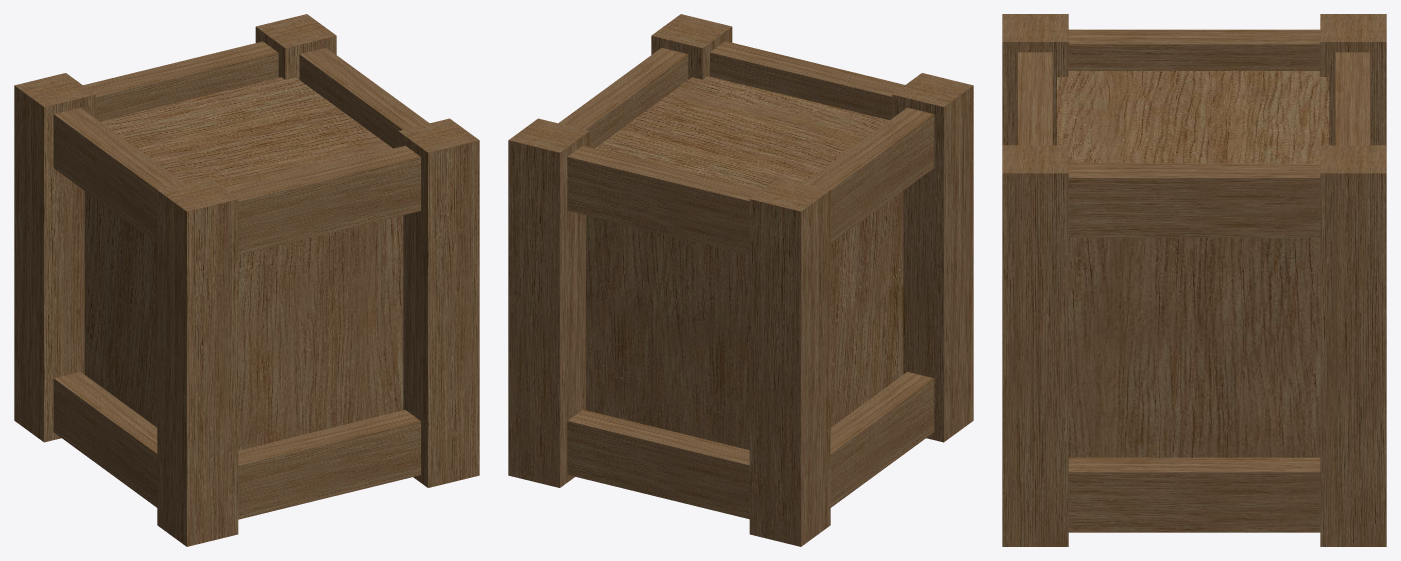
File: SM_Prop_Crate_01.fbx
3 renders of one model, left to right at view 1: azimuth 30°, elevation 25°; view 2: azimuth 150°, elevation 25°; view 3: azimuth 270°, elevation 25°, orthographic. The views are drawn at different scales.
Parts seen in each view (by area): view 1: Cube, Cube.001, Cube.002, Cube.003, Cube.010, Cube.006, Cube.011, Cube.007, Cube.009, Cube.012, Cube.004; view 2: Cube, Cube.003, Cube.004, Cube.001, Cube.009, Cube.005, Cube.011, Cube.007, Cube.010, Cube.012, Cube.002; view 3: Cube, Cube.002, Cube.004, Cube.008, Cube.012, Cube.011, Cube.003, Cube.001, Cube.009, Cube.010.
Boxes of the visible parts, x1,y1,x2,y2 form: Cube: (84,77,403,450); Cube.001: (157,177,238,546); Cube.002: (398,118,479,487); Cube.003: (14,73,95,442); Cube.010: (226,145,420,255); Cube.006: (238,410,420,519); Cube.011: (53,107,183,243); Cube.007: (53,372,157,507); Cube.009: (83,41,278,121); Cube.012: (299,47,429,148); Cube.004: (255,14,336,79); Cube: (586,76,903,449); Cube.003: (749,177,830,546); Cube.004: (508,118,589,487); Cube.001: (892,73,973,442); Cube.009: (567,145,762,254); Cube.005: (567,409,749,519); Cube.011: (804,107,934,243); Cube.007: (830,372,934,507); Cube.010: (710,41,904,120); Cube.012: (558,47,688,148); Cube.002: (651,14,732,79); Cube: (1057,71,1328,457); Cube.002: (1002,145,1068,546); Cube.004: (1320,145,1386,546); Cube.008: (1068,457,1320,532); Cube.012: (1068,163,1320,237); Cube.011: (1068,29,1320,70); Cube.003: (1320,14,1386,145); Cube.001: (1002,14,1068,145); Cube.009: (1335,52,1370,145); Cube.010: (1018,52,1052,145).
Bounding box in the file's own units: 79.87 × 87.45 × 81.53.
